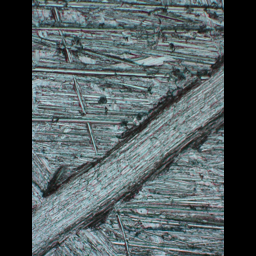d: (32, 48, 223, 256)
